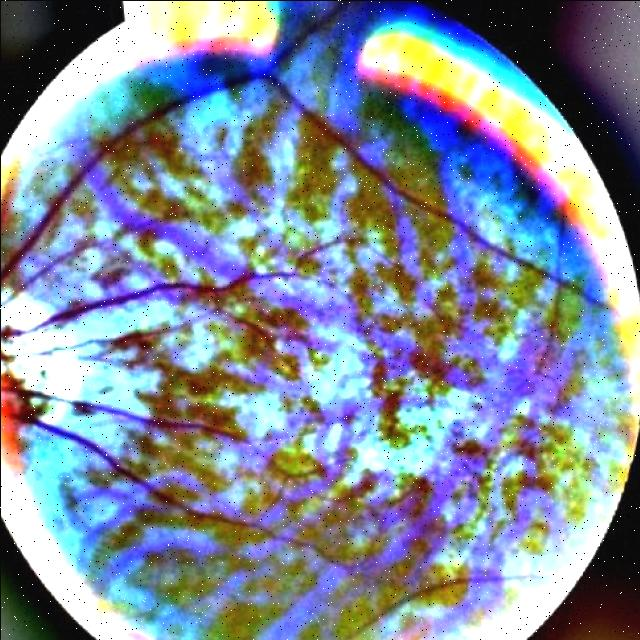Nerves: (30, 417, 268, 535), (0, 280, 234, 334), (19, 393, 242, 440)
Optic Disk: (0, 286, 61, 440)
